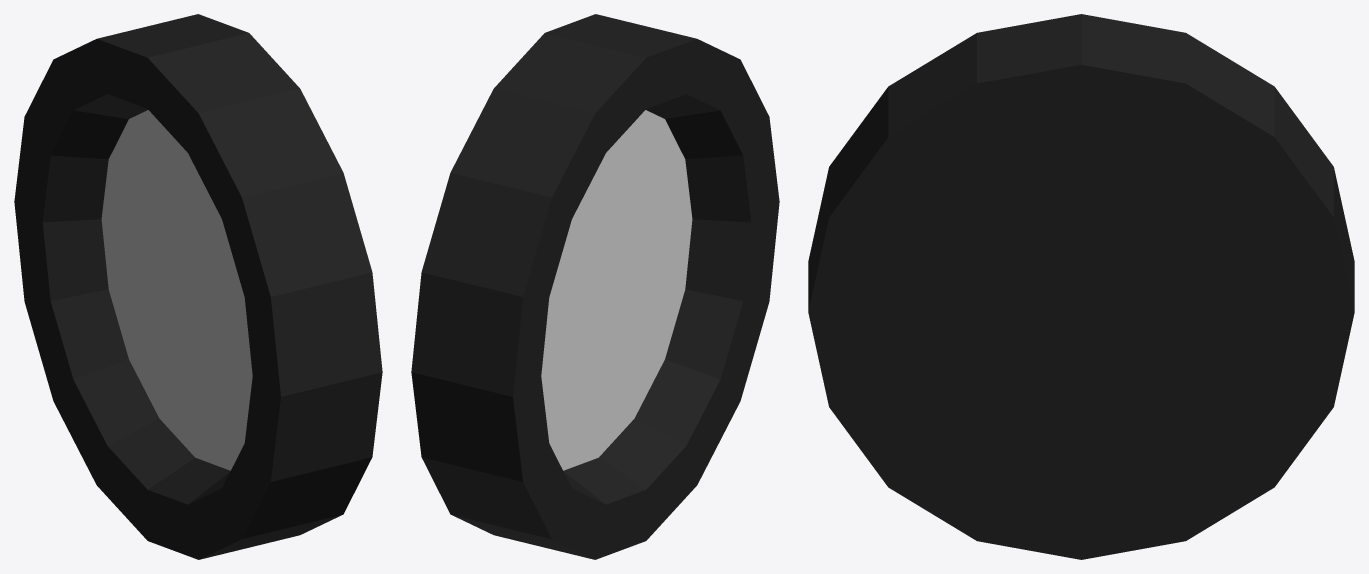
The model's file is ural4320_wheel.glb.
The picture shows the model from 3 angles, left to right: view 1: azimuth 30°, elevation 25°; view 2: azimuth 150°, elevation 25°; view 3: azimuth 270°, elevation 25°; orthographic projection. The views are drawn at different scales.
Parts seen in each view (by area): view 1: wheel; view 2: wheel; view 3: wheel.
Part boxes in pixels (box(x1,y1,x2,y2)): wheel: box(14, 14, 382, 559); wheel: box(411, 14, 779, 559); wheel: box(808, 14, 1354, 559).
Size of the model in its own units: 0.1364 by 0.6201 by 0.6201.
1 material, 1 textured.
